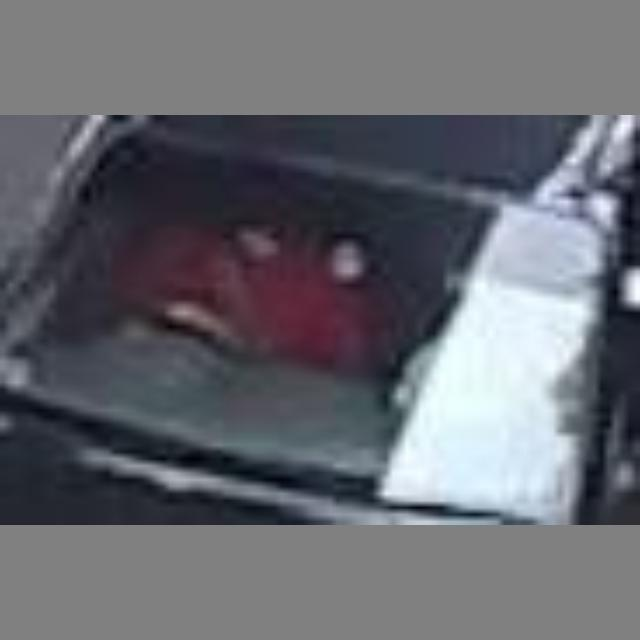tidak-pakai: (90, 185, 403, 400)
